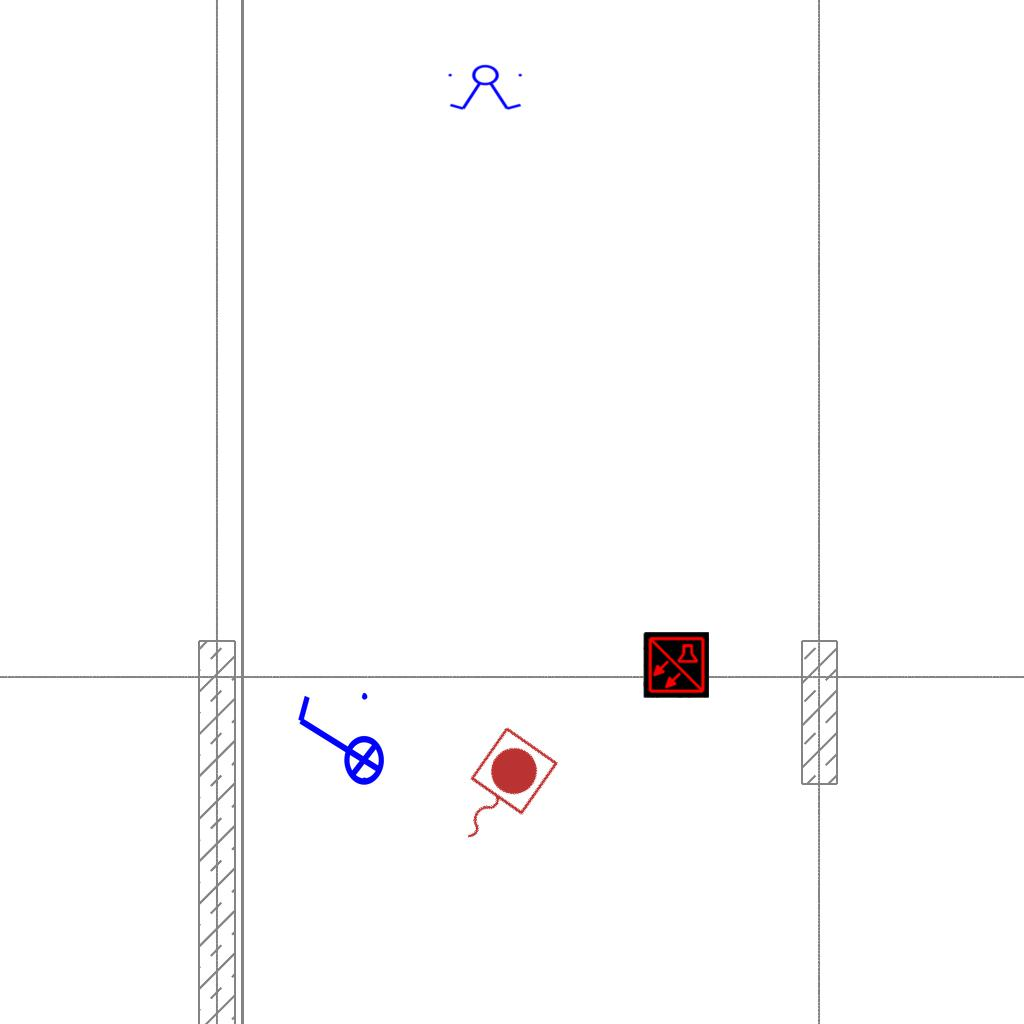Ausschalter_beleuchtet: (290, 687, 386, 799)
OKW_Multisensormelder_(Kombination_optischer_Rauch-Kahlenmonoxid_Waerme-Melder): (643, 632, 709, 698)
Serienschalter: (444, 64, 528, 112)
Zugtaster: (434, 720, 564, 862)
